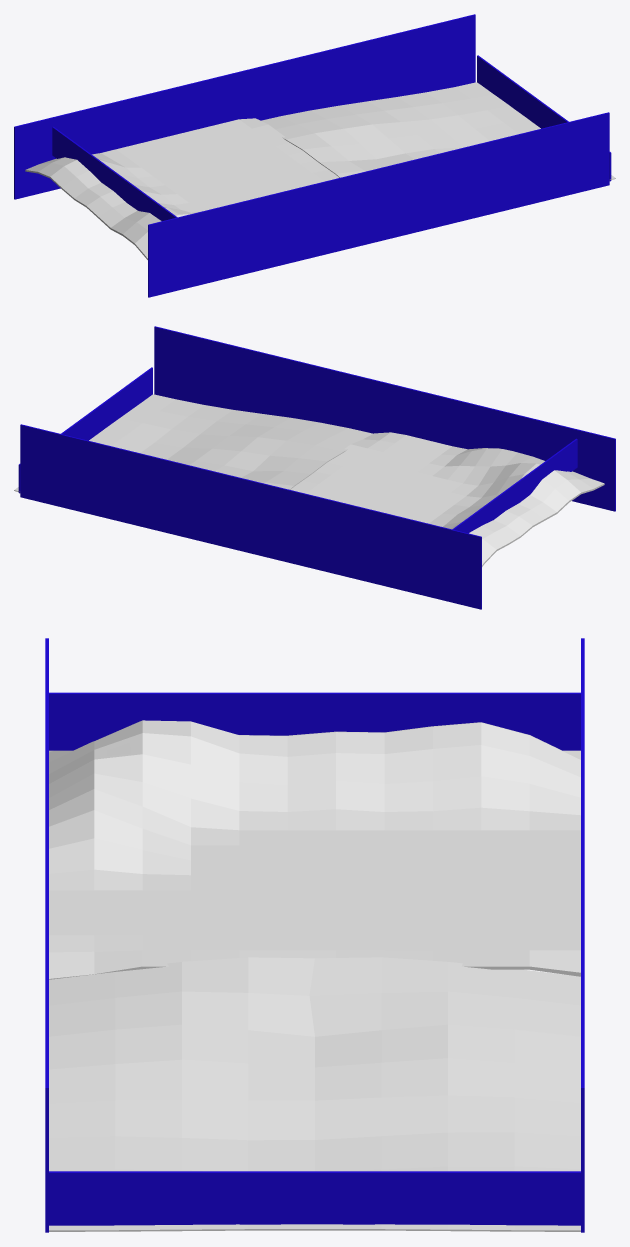
File: testWorld.glb
3 views of the same model, one above another, from view 1: azimuth 30°, elevation 25°; view 2: azimuth 150°, elevation 25°; view 3: azimuth 270°, elevation 25° (orthographic). The views are drawn at different scales.
Visible parts, largest first — view 1: Cube; view 2: Cube; view 3: Cube.
Part boxes in pixels (x1=…): Cube: x1=14, y1=14, x2=615, y2=297; Cube: x1=14, y1=326, x2=615, y2=609; Cube: x1=45, y1=638, x2=584, y2=1232.
Bounding box in the file's own units: 609 × 90 × 304.
